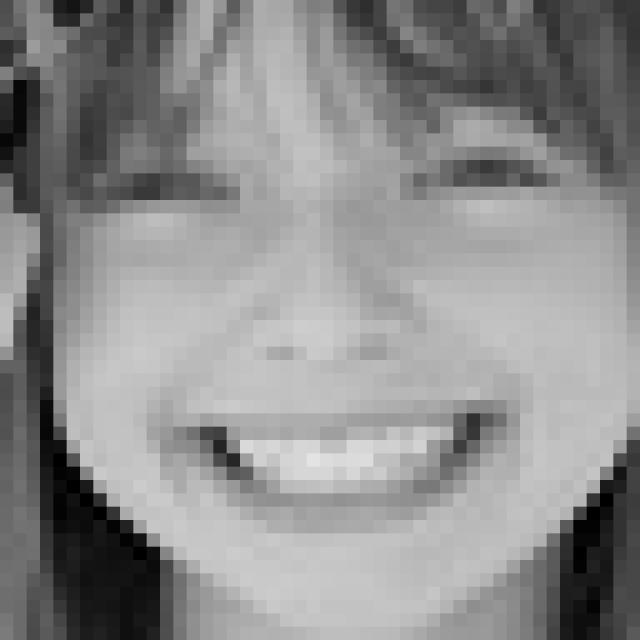happy: (72, 68, 594, 546)
